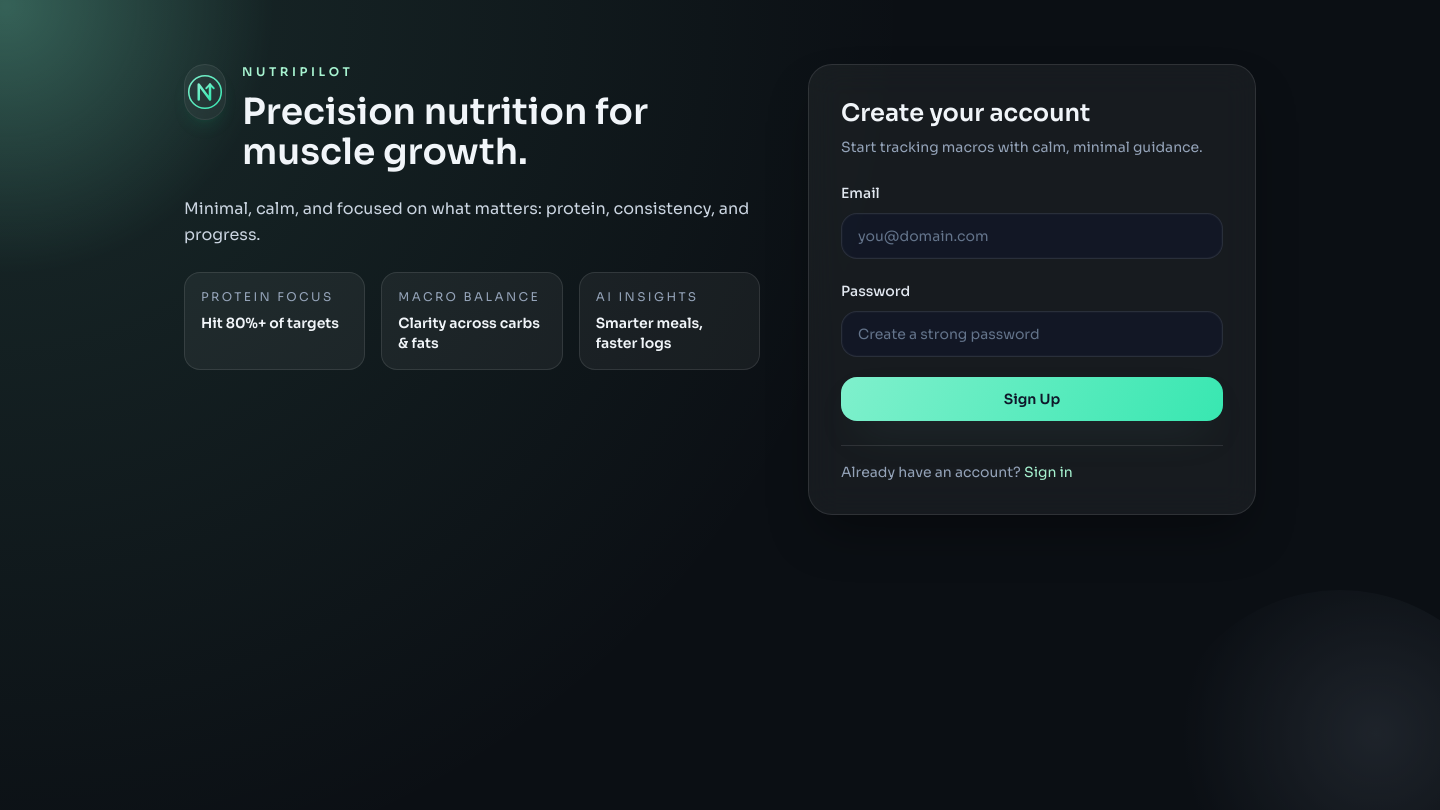
Test: RegisterForm › shows policy error for weak password
In the field labelled "Email": (1032, 236) [841, 213, 1223, 259], type "user@example.com"
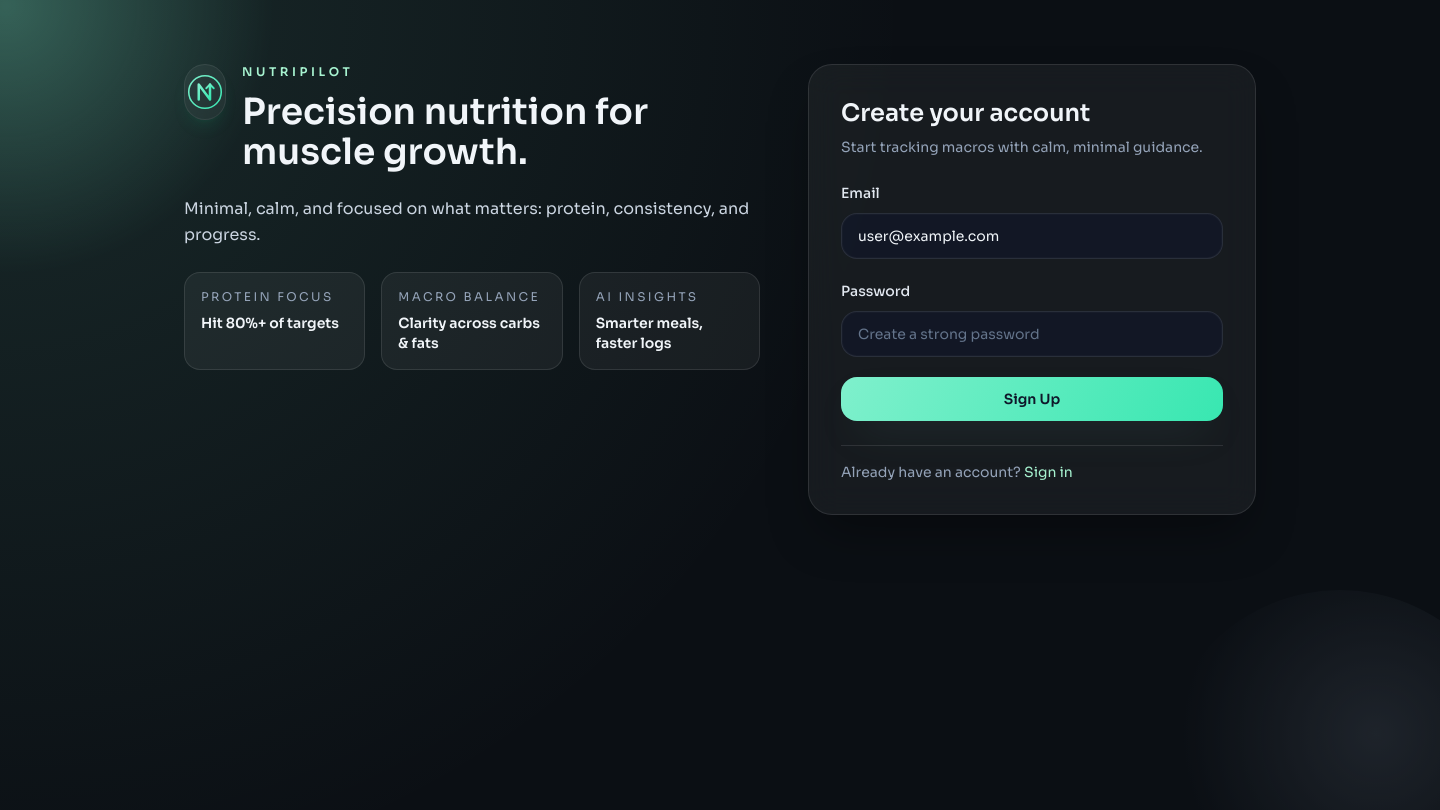
In the password field labelled "Password": (1032, 334) [841, 311, 1223, 357], type "weakpass"
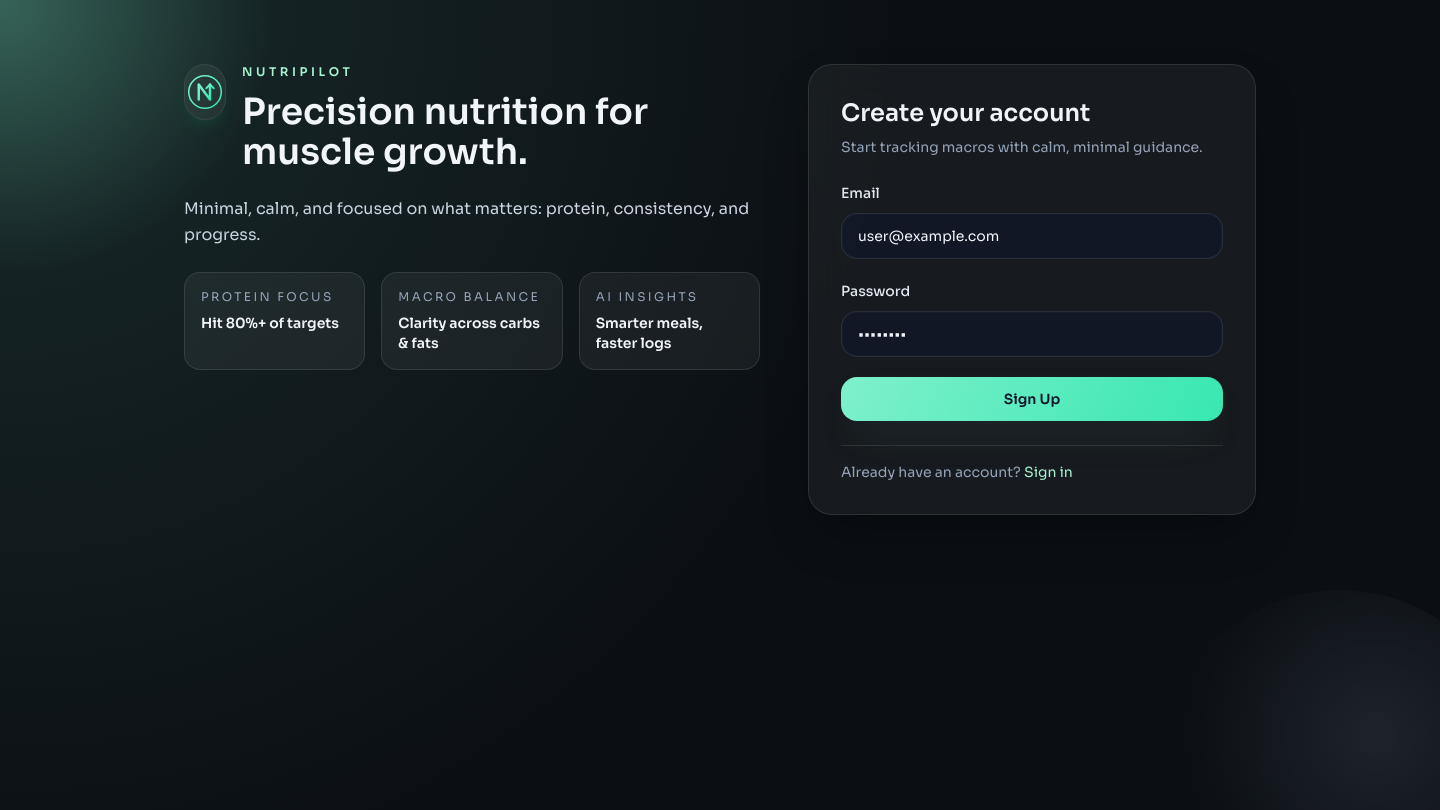
Click the button "Sign Up": (1032, 399) [841, 377, 1223, 421]
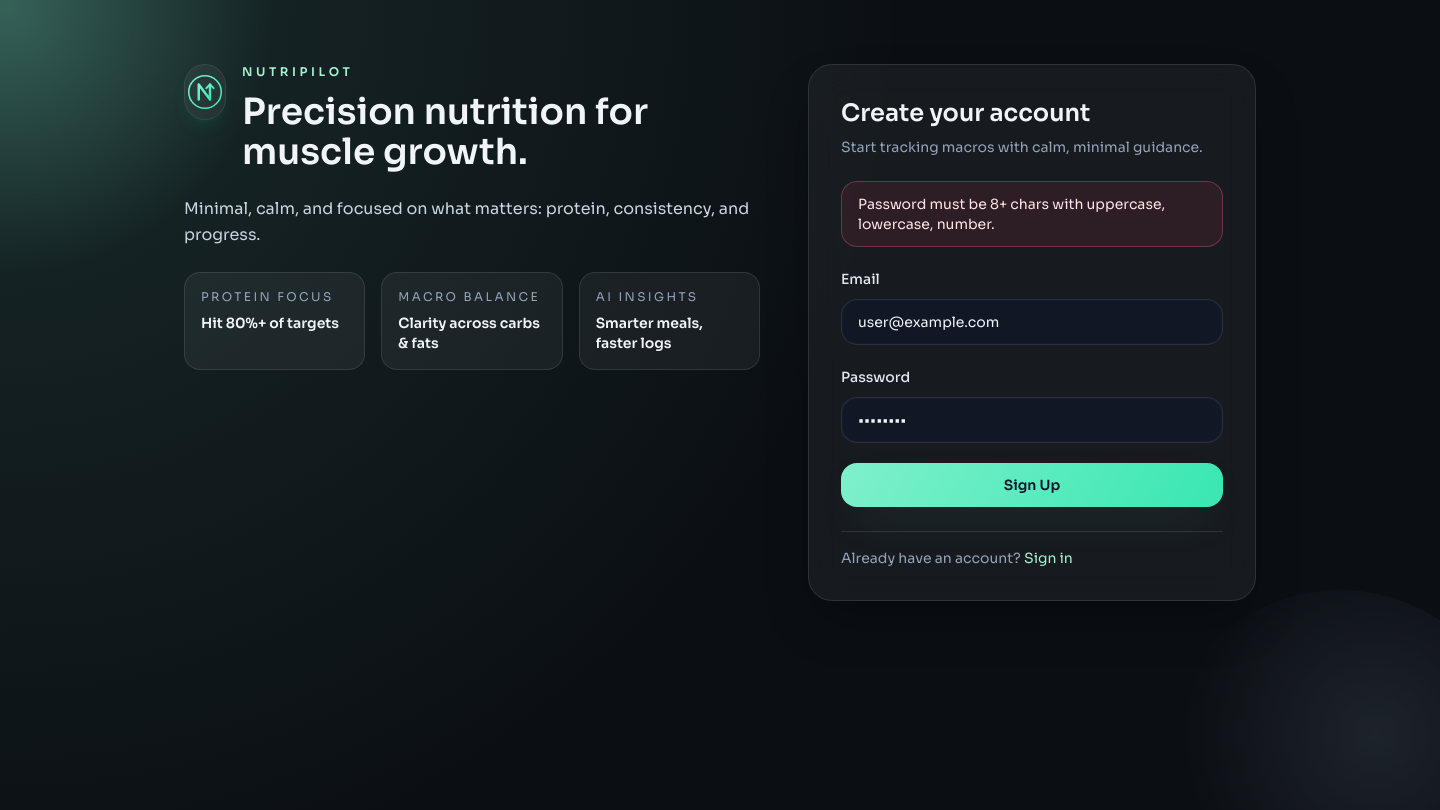
Expected: the text "Password must be 8+ chars with uppercase, lowercase, number." is shown, [841, 181, 1223, 247]
